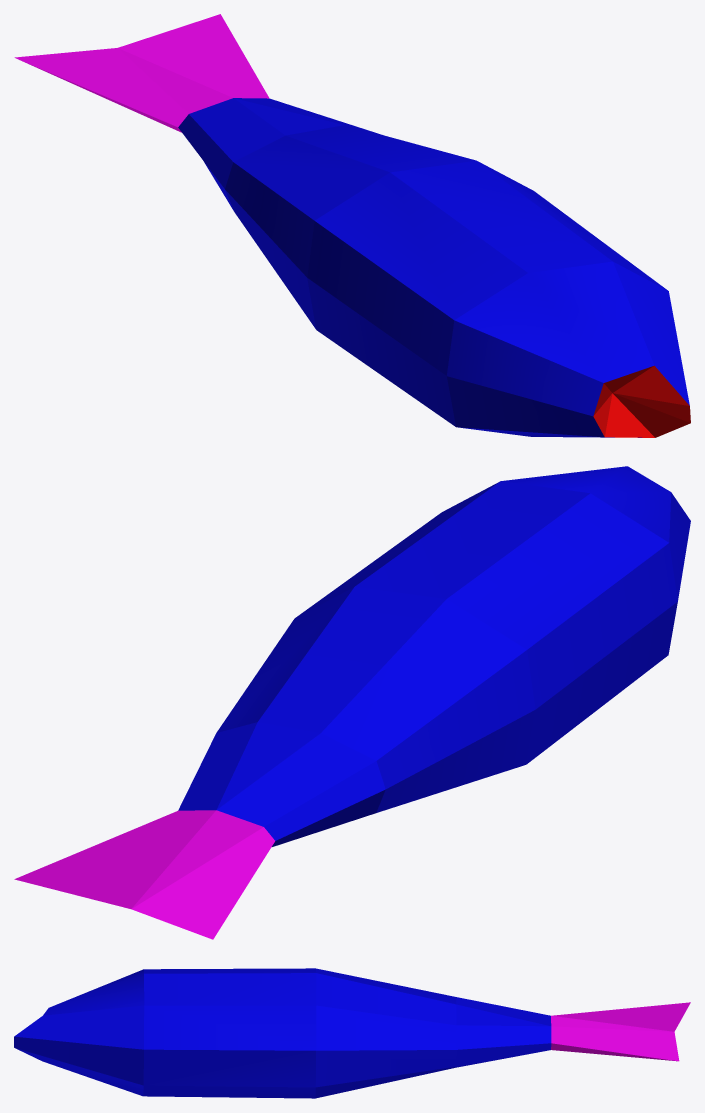
Rendered from fisch_low.fbx.
3 views of the same model, one above another, from view 1: azimuth 30°, elevation 25°; view 2: azimuth 150°, elevation 25°; view 3: azimuth 270°, elevation 25° (orthographic). The views are drawn at different scales.
Visible parts, largest first — view 1: polySurface4; view 2: polySurface4; view 3: polySurface4.
Boxes of the visible parts, x1,y1,x2,y2 form: polySurface4: (14,14,690,437); polySurface4: (14,466,690,939); polySurface4: (14,968,690,1098).
Size of the model in its own units: 0.2886 by 0.2025 by 1.18.
